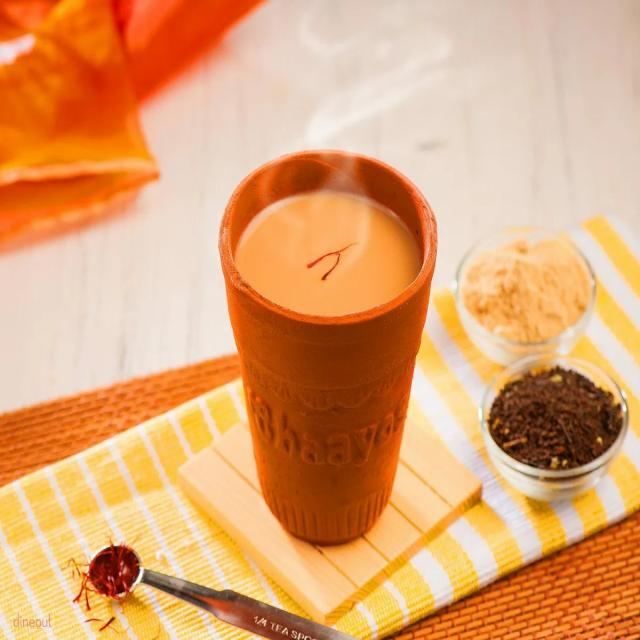Chai: (230, 188, 423, 324)
